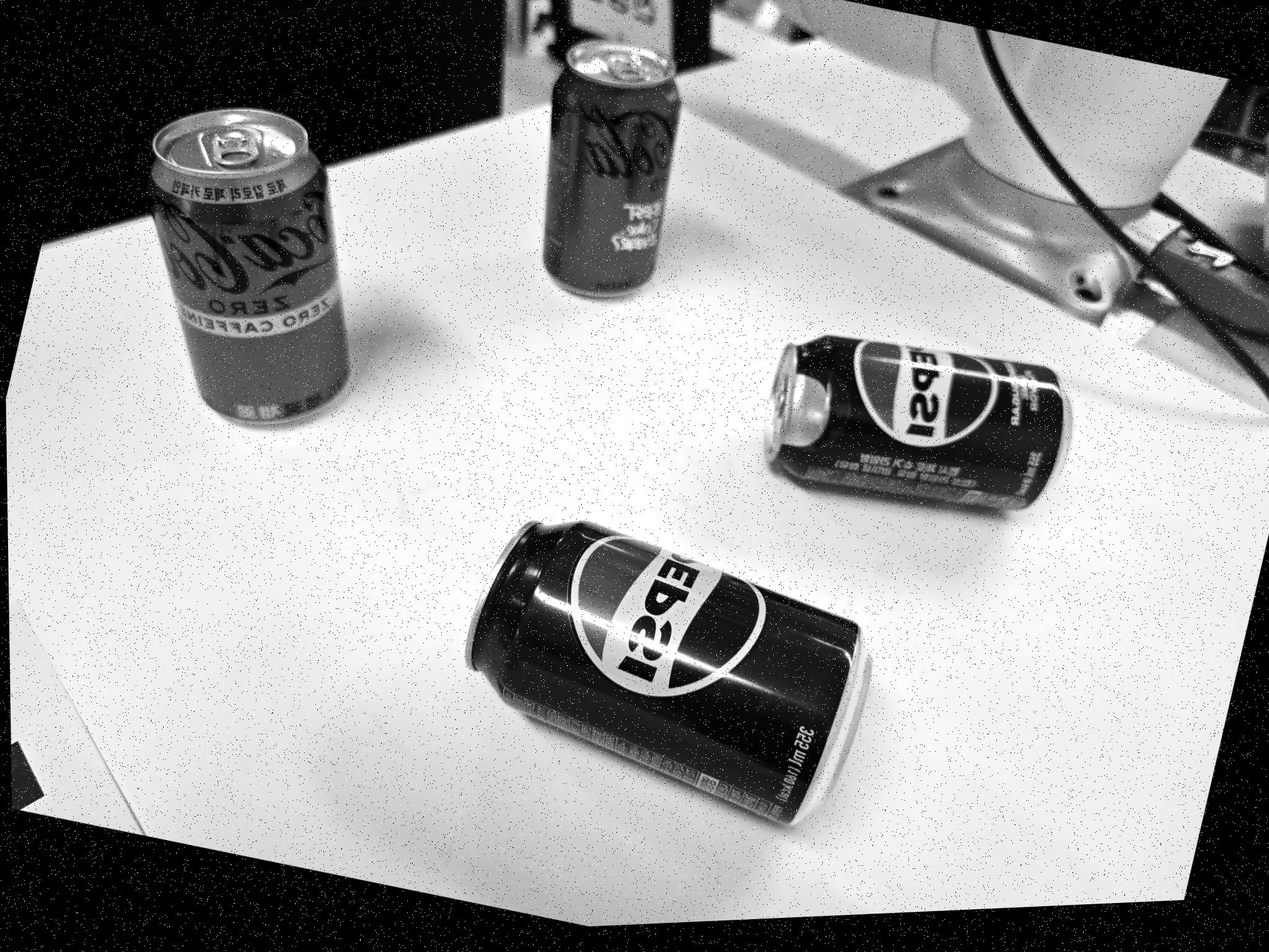can_coke_decaf: (147, 108, 349, 423)
can_coke_zero: (544, 40, 680, 296)
can_pepsi: (466, 521, 869, 823)
can_pepsi_zero: (764, 336, 1071, 509)
